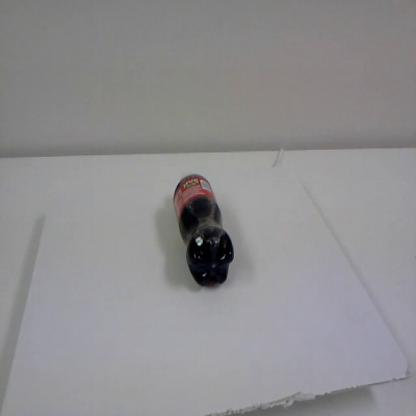bottle: (170, 167, 234, 289)
